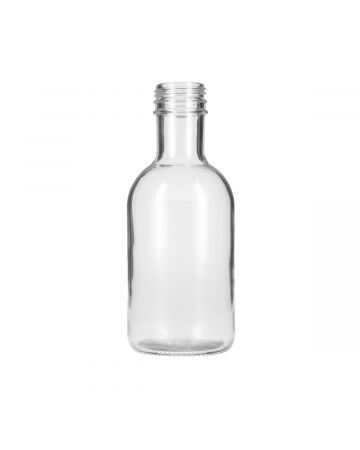glass_bottle: (123, 78, 241, 358)
